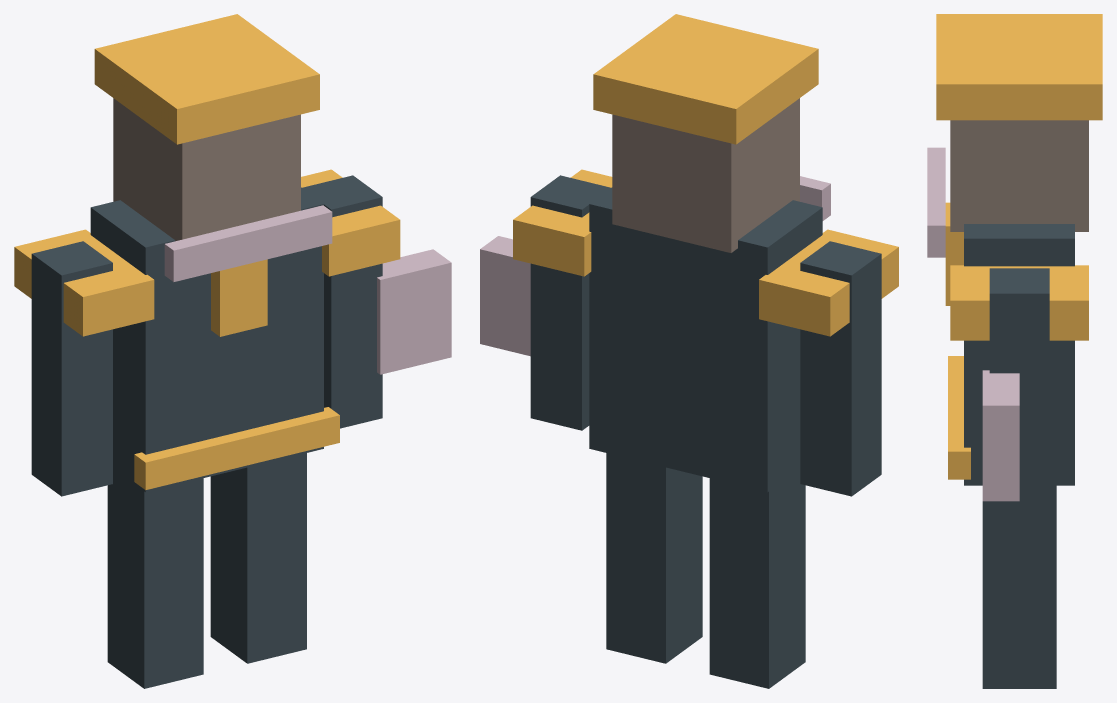
The model's file is 16_sarai_gravesong_tactician_from_maintenance.glb.
3 views of the same model, side by side, from view 1: azimuth 30°, elevation 25°; view 2: azimuth 150°, elevation 25°; view 3: azimuth 270°, elevation 25° (orthographic).
Visible parts, largest first — view 1: Sarai Gravesong, Tactician from Maintenance; view 2: Sarai Gravesong, Tactician from Maintenance; view 3: Sarai Gravesong, Tactician from Maintenance.
Part boxes in pixels (<box>): Sarai Gravesong, Tactician from Maintenance: <box>14,14,451,688</box>; Sarai Gravesong, Tactician from Maintenance: <box>480,14,898,688</box>; Sarai Gravesong, Tactician from Maintenance: <box>927,14,1102,688</box>.
Size of the model in its own units: 0.9645 by 1.42 by 0.3759.
